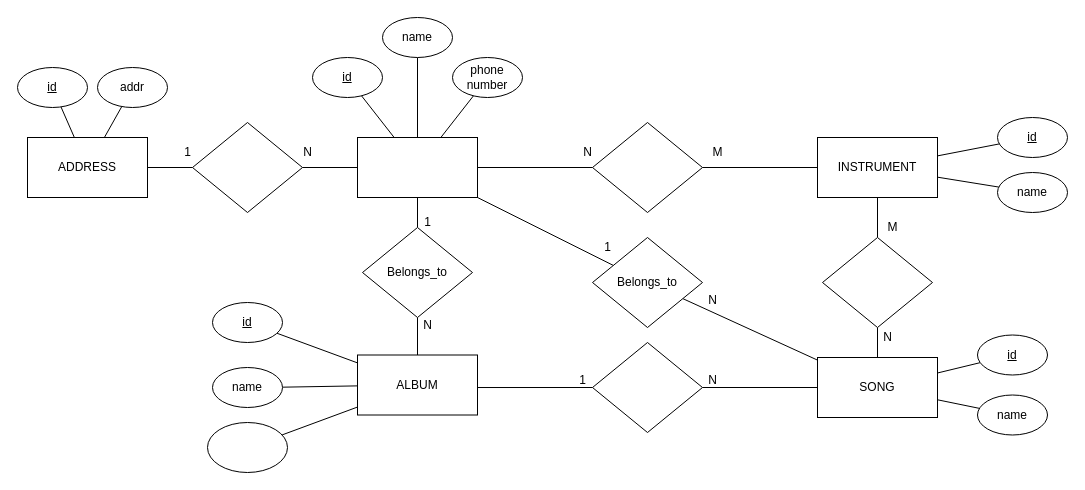
Some shapes in this 1085 by 490 pixel diagram are drawn without their labels. Each missing label, with the centre of its shape:
ARTIST: point (417, 167)
In: point (647, 387)
Live: point (247, 167)
Play: point (647, 167)
Plays: point (877, 282)
release date: point (247, 447)
